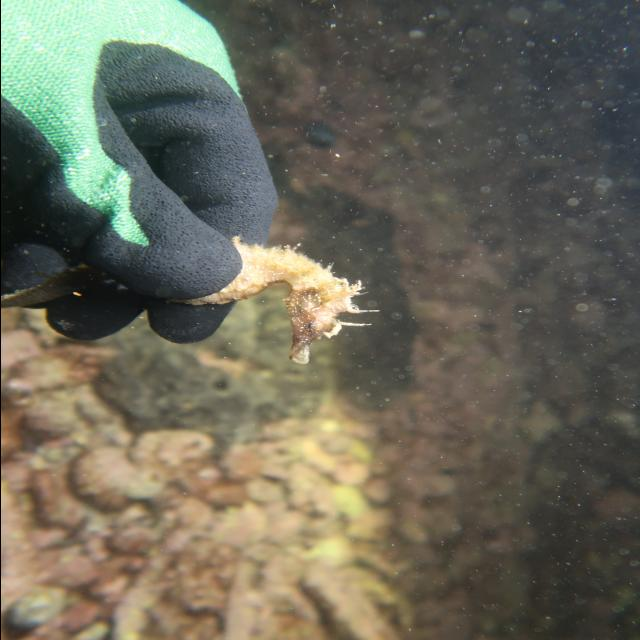Guttu: (273, 272, 369, 368)
